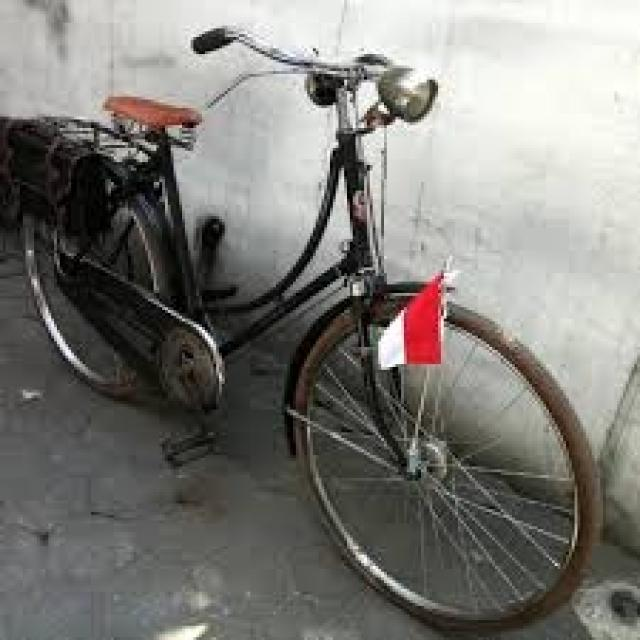bicycle: (20, 39, 599, 638)
